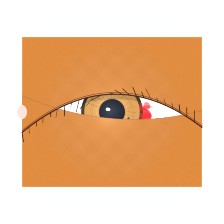hemorrhage_spot: (94, 89, 161, 143)
